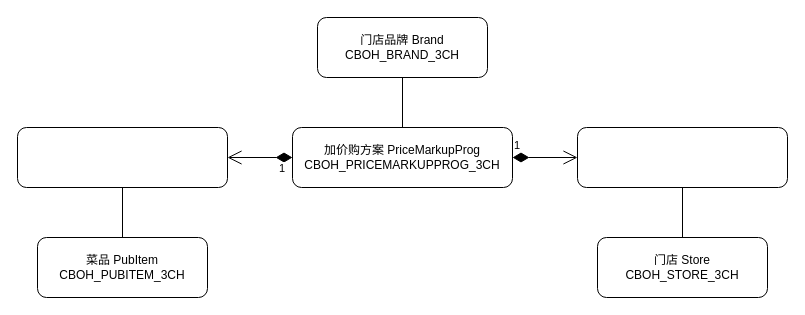
This 805x315 diagram has some shape labels left out. The box of each missing label's shape, as (x1, y1, x2, y2) in pixels:
推荐菜 PriceMarkuPubitem CBOH_PRICEMARKUPUBITEM_3CH: (16, 126, 228, 188)
适用门店信息 PriceMarkuStore CBOH_PRICEMARKUSTORE_3CH: (576, 126, 788, 188)
